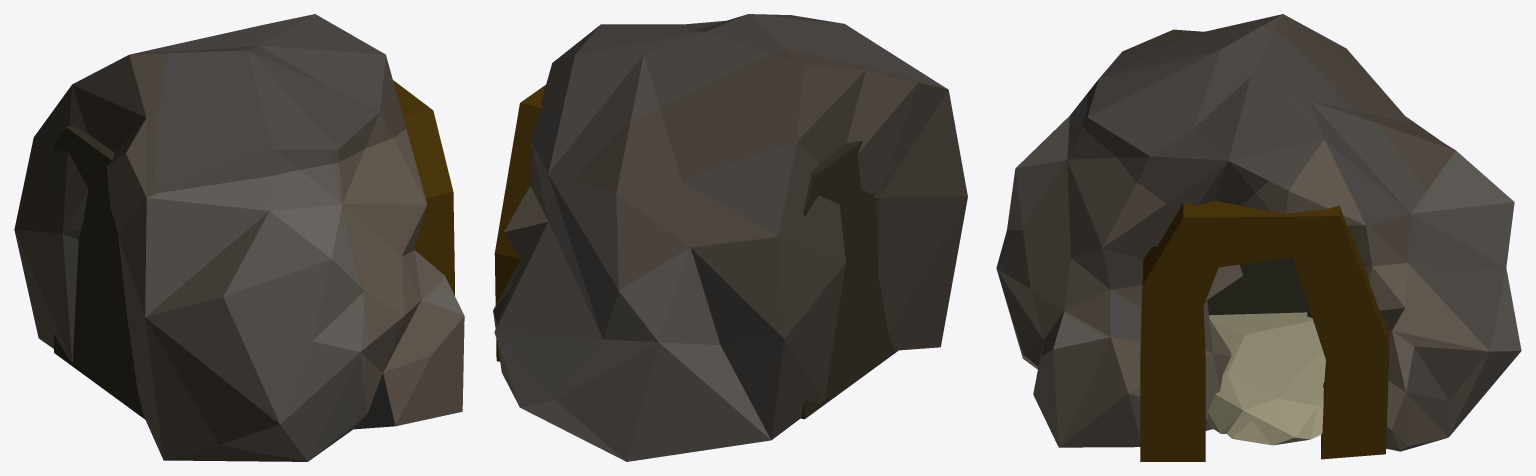
Rendered from cave-entrance-lowpoly-1.fbx.
3 views of the same model, side by side, from view 1: azimuth 30°, elevation 25°; view 2: azimuth 150°, elevation 25°; view 3: azimuth 270°, elevation 25° (orthographic).
Visible parts, largest first — view 1: Cube.002; view 2: Cube.002; view 3: Cube.002.
Boxes of the visible parts, x1,y1,x2,y2 form: Cube.002: [14, 14, 464, 461]; Cube.002: [493, 14, 967, 461]; Cube.002: [996, 14, 1521, 461].
Bounding box in the file's own units: 5904 × 5877 × 8041.
